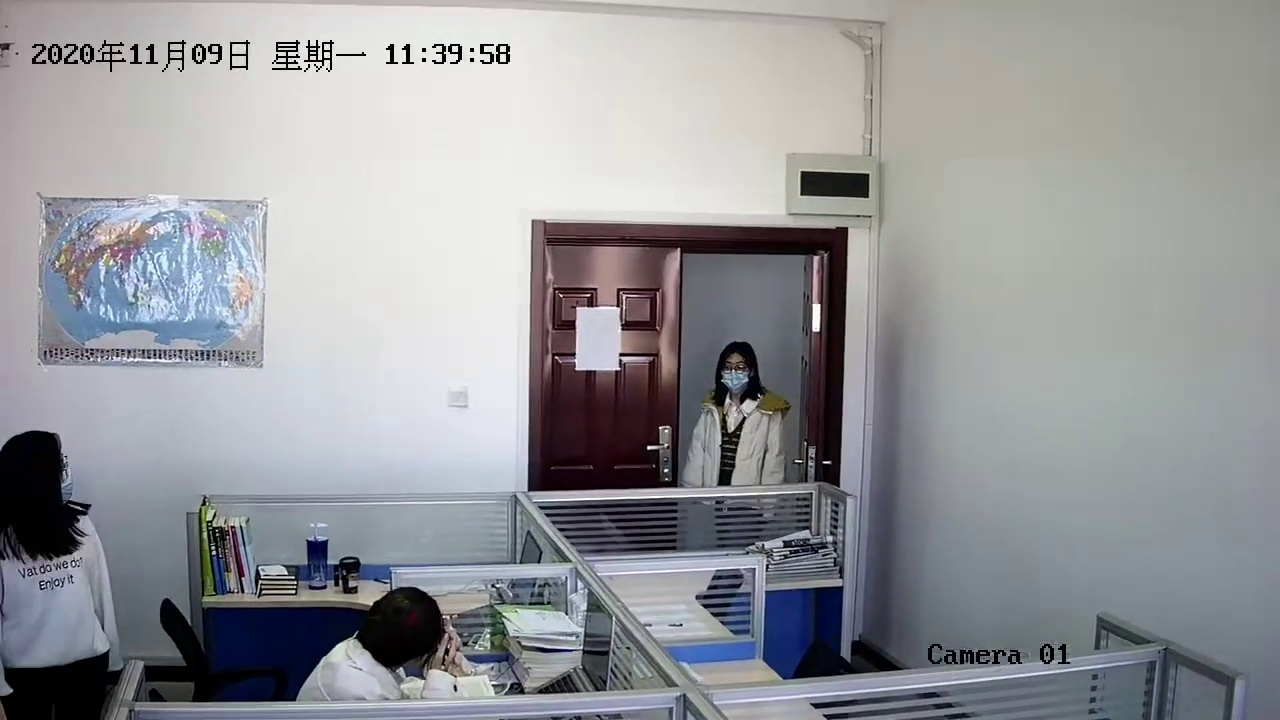mask: (12, 436, 82, 525), (717, 347, 758, 393)
